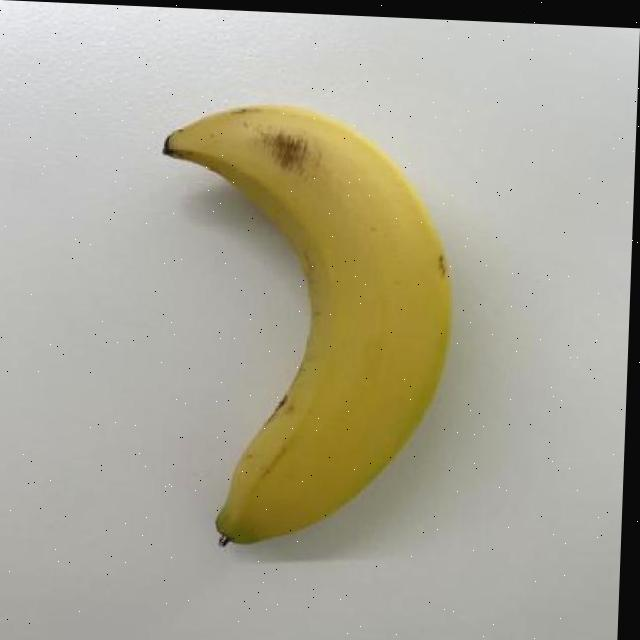banana: (135, 91, 475, 566)
